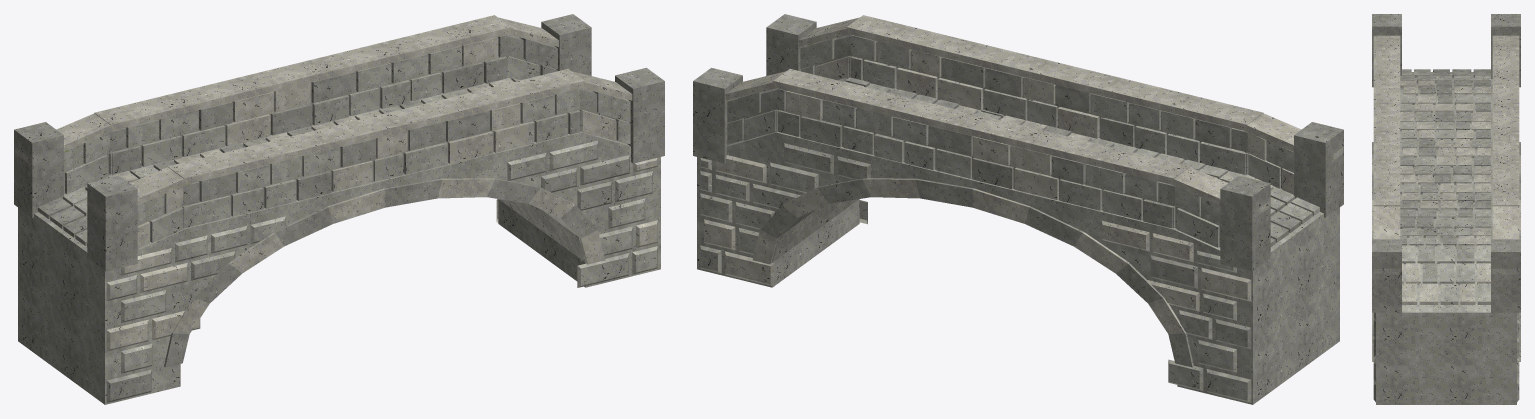
File: stone_village_bridge.glb
3 renders of one model, left to right at view 1: azimuth 30°, elevation 25°; view 2: azimuth 150°, elevation 25°; view 3: azimuth 270°, elevation 25°, orthographic. The views are drawn at different scales.
Parts seen in each view (by area): view 1: BridgeBody; view 2: BridgeBody; view 3: BridgeBody.
Boxes of the visible parts, x1,y1,x2,y2 form: BridgeBody: (14, 14, 664, 404); BridgeBody: (693, 14, 1343, 404); BridgeBody: (1372, 14, 1520, 404).
Size of the model in its own units: 7.04 by 2.53 by 2.
Materials: 4 (3 with a texture image).
